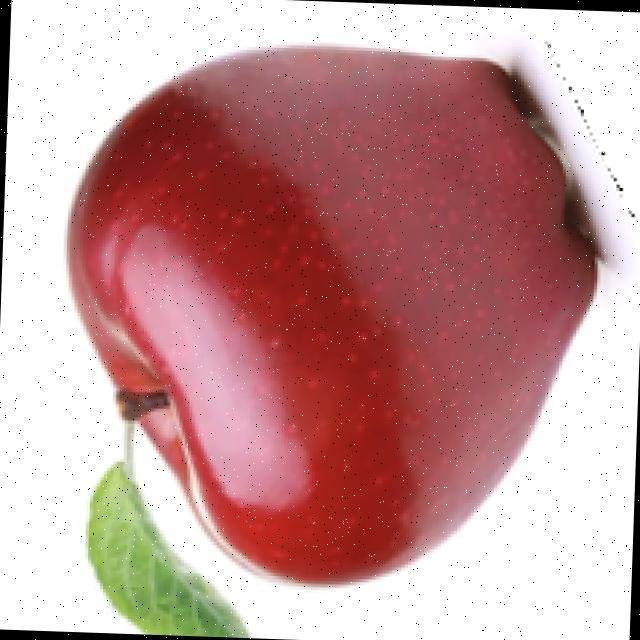apple: (59, 32, 636, 595)
